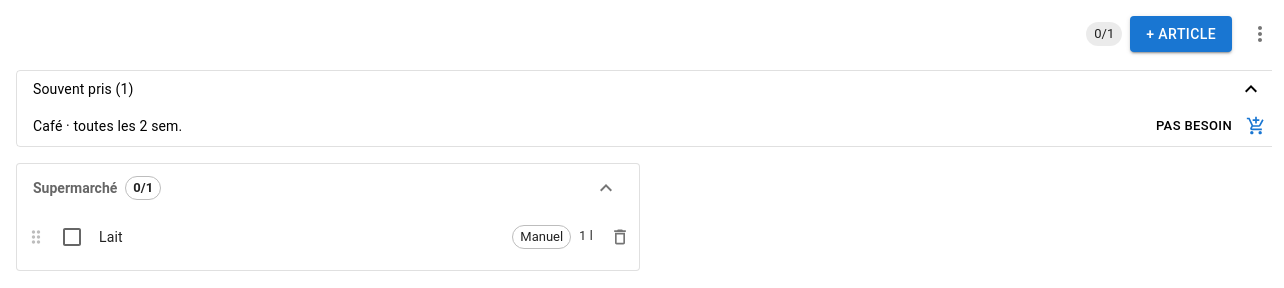
Test: GroceryListView — « Souvent pris » › « Pas besoin » snoozes the product and the row leaves
Check: the text "Lait" is shown, box [99,229,123,245]
Click the button with aria-label "Pas besoin de Café". click: (1194, 126)
box: [1151,111,1237,142]
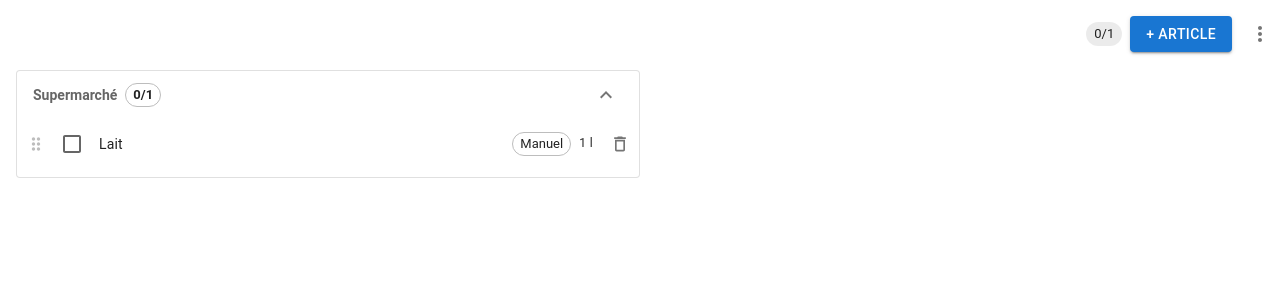
Check: the element with test id "grocery-suggestions" is gone
